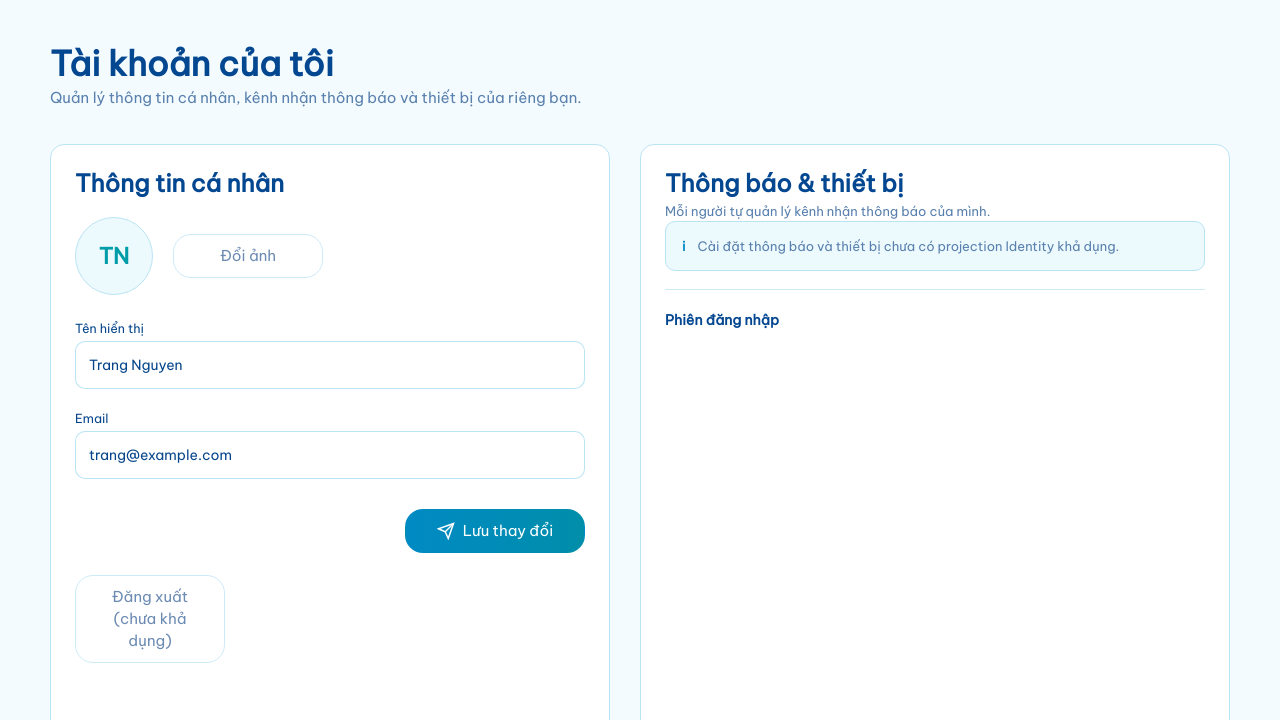
Test case: Profile Gateway interactions › keeps previous sessions on next-page failure and permits retry
Expected: the field labelled "Tên hiển thị" is shown, [89,341,571,389]
Step 1. Click the heading "Phiên đăng nhập" → click(722, 320), box [665,311,779,329]
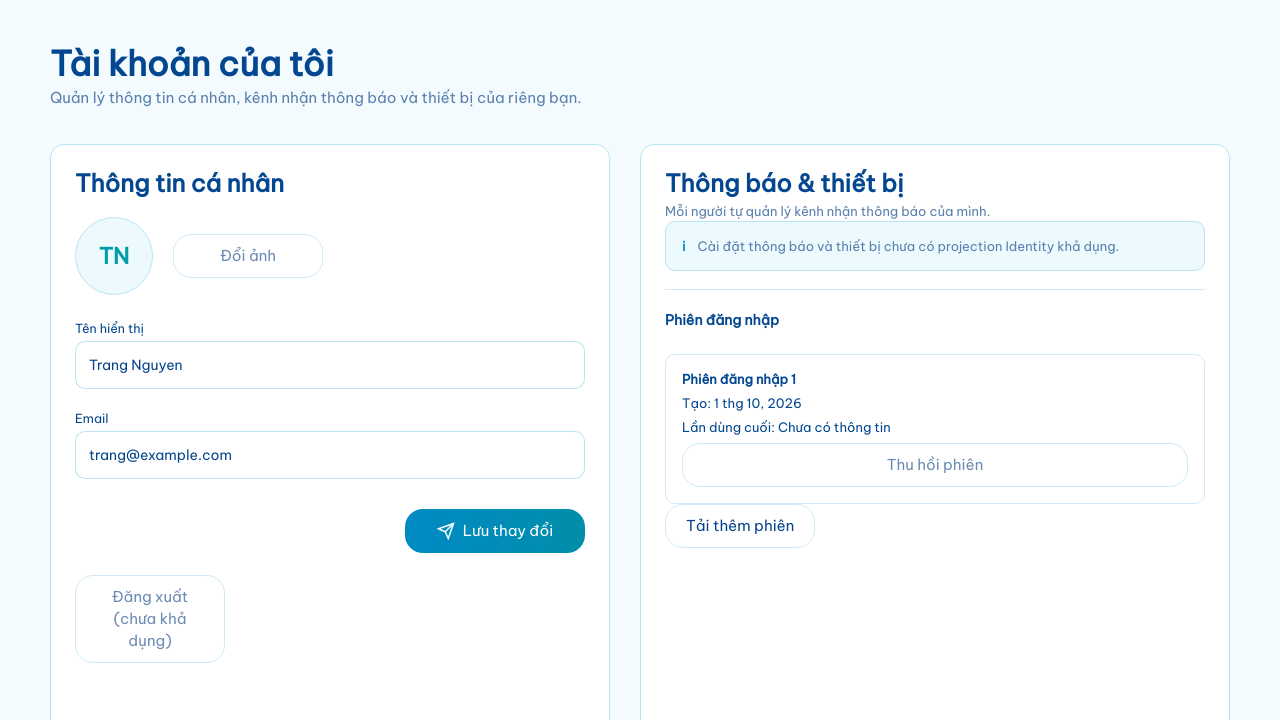
Step 2. Click the button "Tải thêm phiên" → click(740, 526), box [665,504,815,548]
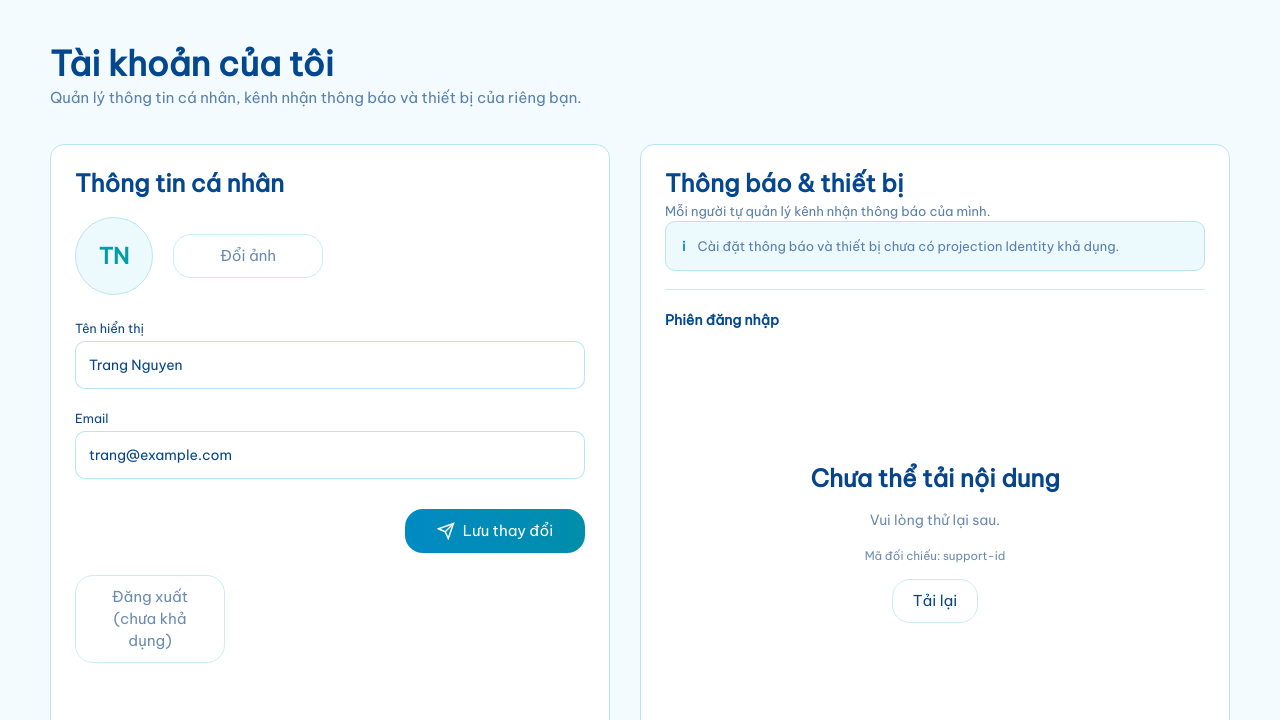
Now the heading "Chưa thể tải nội dung" is shown, box [810,463,1060,493]
Step 3. Click the button "Tải lại" → click(935, 601), box [892,579,978,623]
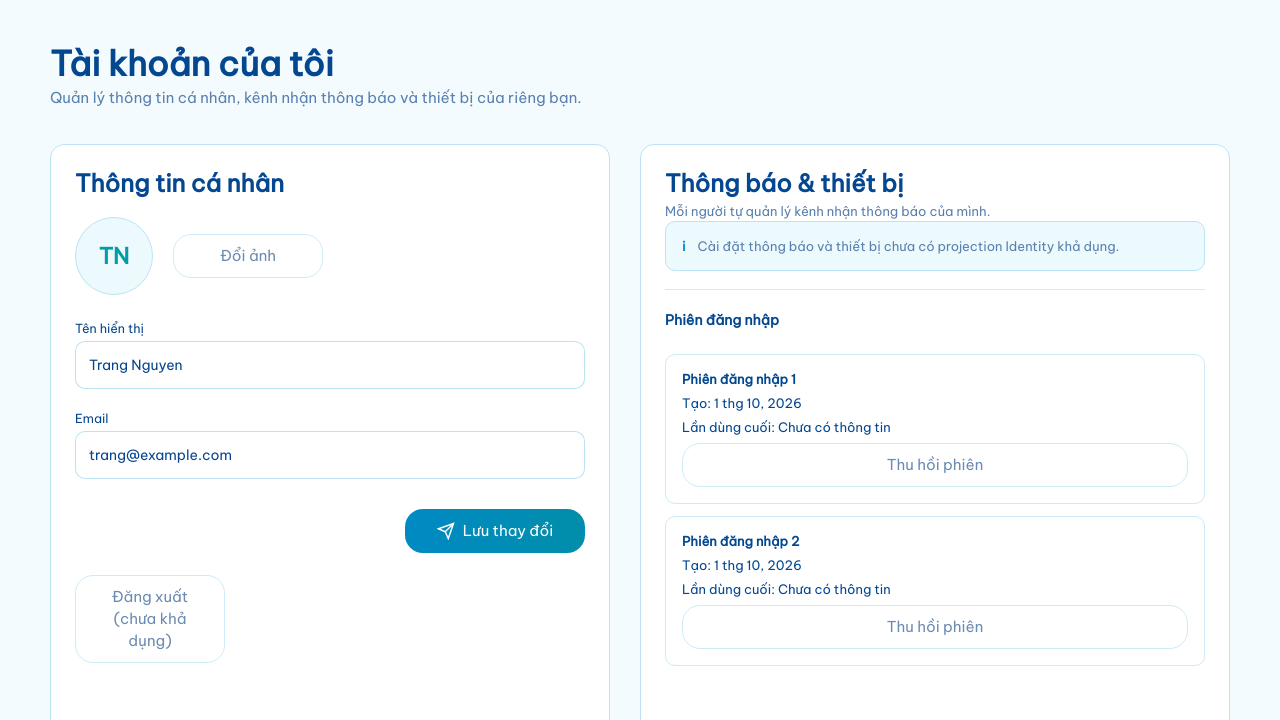
Now the text "Phiên đăng nhập 2" is shown, box [682,533,799,549]
